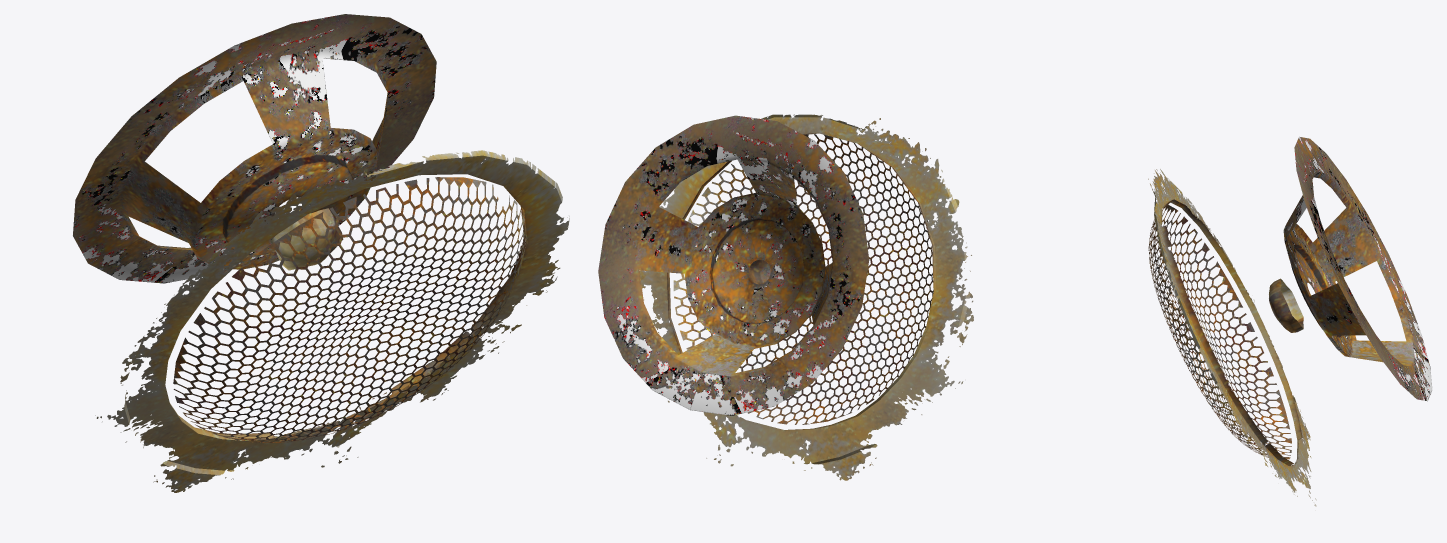
File: yougou.FBX
3 views of the same model, side by side, from view 1: azimuth 30°, elevation 25°; view 2: azimuth 150°, elevation 25°; view 3: azimuth 270°, elevation 25° (orthographic). The views are drawn at different scales.
Parts seen in each view (by area): view 1: yougou_05, yougou_03, yougou_01; view 2: yougou_05, yougou_03, yougou_01; view 3: yougou_05, yougou_01, yougou_03.
Boxes of the visible parts, x1=… form: yougou_05: x1=73, y1=14, x2=436, y2=283; yougou_03: x1=95, y1=150, x2=569, y2=492; yougou_01: x1=173, y1=177, x2=526, y2=443; yougou_05: x1=598, y1=115, x2=869, y2=415; yougou_03: x1=639, y1=114, x2=973, y2=480; yougou_01: x1=673, y1=134, x2=933, y2=424; yougou_05: x1=1269, y1=136, x2=1432, y2=401; yougou_01: x1=1148, y1=204, x2=1291, y2=459; yougou_03: x1=1148, y1=169, x2=1316, y2=506.
Bounding box in the file's own units: 633 × 623 × 457.
